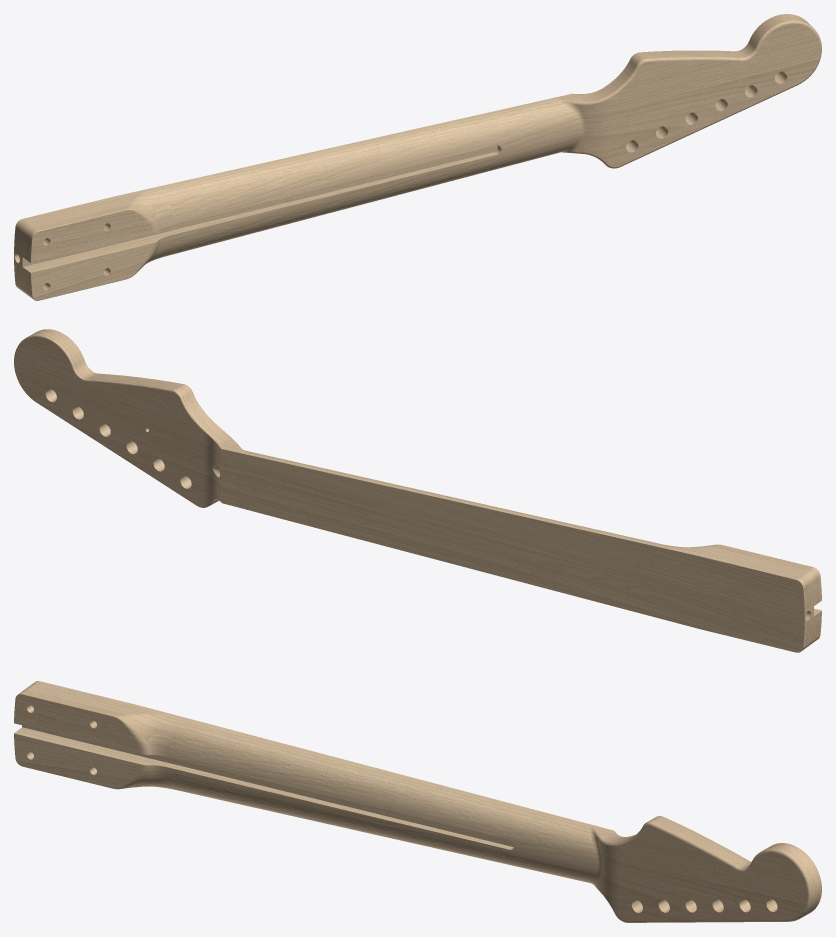
The model's file is maple_neck.dae.
3 views of the same model, one above another, from view 1: azimuth 30°, elevation 25°; view 2: azimuth 150°, elevation 25°; view 3: azimuth 330°, elevation 25° (orthographic). The views are drawn at different scales.
Visible parts, largest first — view 1: maple_neck; view 2: maple_neck; view 3: maple_neck.
Part boxes in pixels (left/top/right/bottom): maple_neck: left=14, top=14, right=821, bottom=300; maple_neck: left=14, top=329, right=821, bottom=652; maple_neck: left=14, top=681, right=821, bottom=922.
Bounding box in the file's own units: 669 × 46.49 × 95.53.
Materials: 1 (1 with a texture image).
